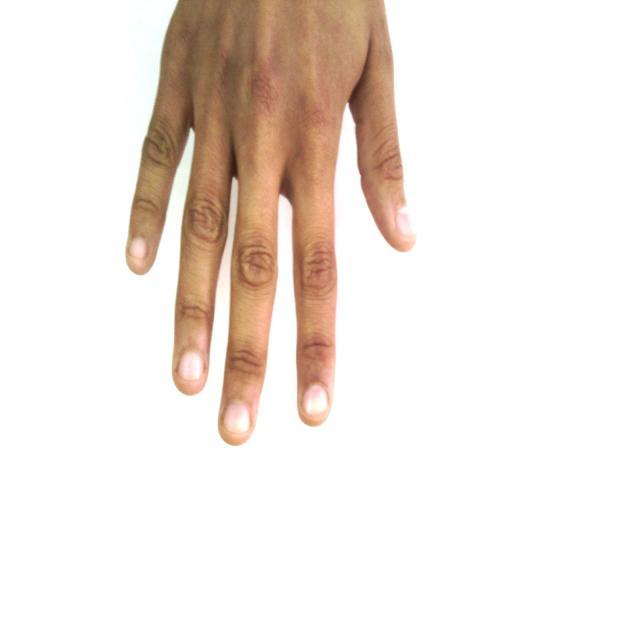Fingernail: (223, 403, 250, 435), (303, 385, 327, 417), (180, 353, 202, 380), (397, 207, 414, 237), (130, 238, 146, 259)
